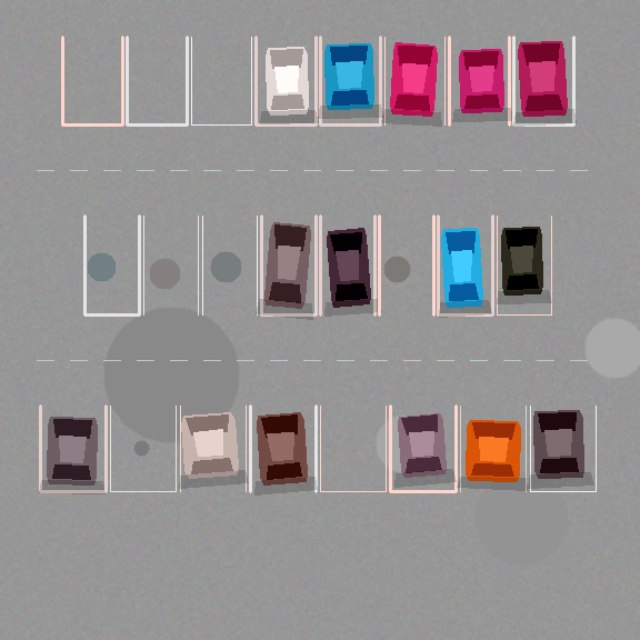space-empty: (110, 406, 176, 491), (320, 406, 386, 491), (84, 216, 139, 314), (143, 216, 198, 314), (202, 216, 257, 314), (379, 216, 433, 314), (62, 37, 122, 124), (127, 37, 187, 124), (191, 37, 251, 124)
space-occupied: (40, 406, 106, 491), (180, 406, 246, 491), (250, 406, 316, 491), (390, 406, 456, 491), (460, 406, 526, 491), (530, 406, 596, 491), (261, 216, 316, 314), (320, 216, 374, 314), (438, 216, 492, 314), (497, 216, 551, 314), (256, 37, 316, 124), (320, 37, 380, 124), (384, 37, 444, 124), (449, 37, 509, 124), (513, 37, 573, 124)
